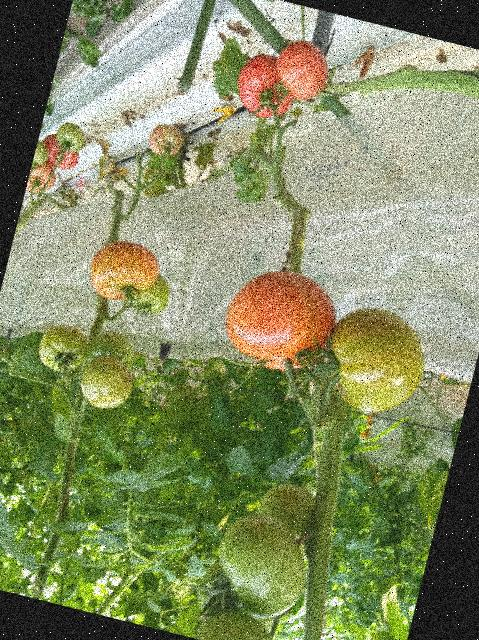b_fully_ripened: (230, 49, 303, 125), (35, 130, 83, 174)
b_green: (314, 298, 437, 425), (205, 504, 320, 627), (190, 556, 288, 640), (247, 477, 324, 561), (75, 351, 138, 414), (191, 603, 289, 640), (34, 320, 91, 378), (83, 327, 139, 375), (125, 269, 175, 318), (51, 119, 89, 155), (32, 139, 52, 167)
b_half_ripened: (216, 260, 345, 382), (83, 233, 165, 310), (269, 35, 335, 106), (145, 120, 185, 160), (25, 158, 59, 198)
